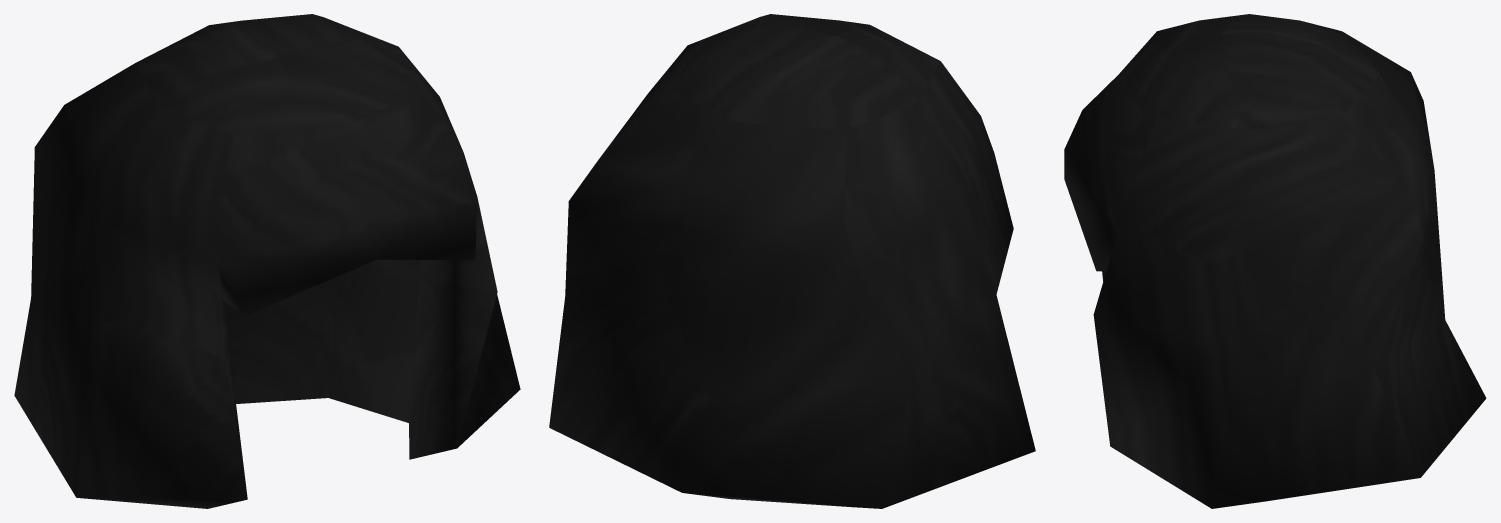
The model's file is five_dollar_milkshake.glb.
The picture shows the model from 3 angles, left to right: view 1: azimuth 30°, elevation 25°; view 2: azimuth 150°, elevation 25°; view 3: azimuth 270°, elevation 25°; orthographic projection. The views are drawn at different scales.
Visible parts, largest first — view 1: Five-Dollar Milkshake; view 2: Five-Dollar Milkshake; view 3: Five-Dollar Milkshake.
Boxes of the visible parts, left/top/right/bottom form: Five-Dollar Milkshake: left=14, top=14, right=520, bottom=508; Five-Dollar Milkshake: left=549, top=14, right=1035, bottom=508; Five-Dollar Milkshake: left=1064, top=14, right=1486, bottom=508.
Size of the model in its own units: 0.3066 by 0.2796 by 0.2679.
1 material, 1 textured.
